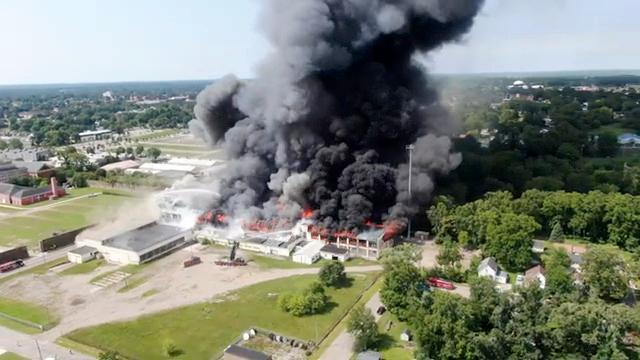smoke: (276, 0, 399, 222), (276, 141, 420, 216), (267, 0, 460, 47), (377, 65, 437, 158), (198, 79, 266, 144), (341, 149, 400, 213), (220, 146, 271, 215), (280, 166, 313, 207)
